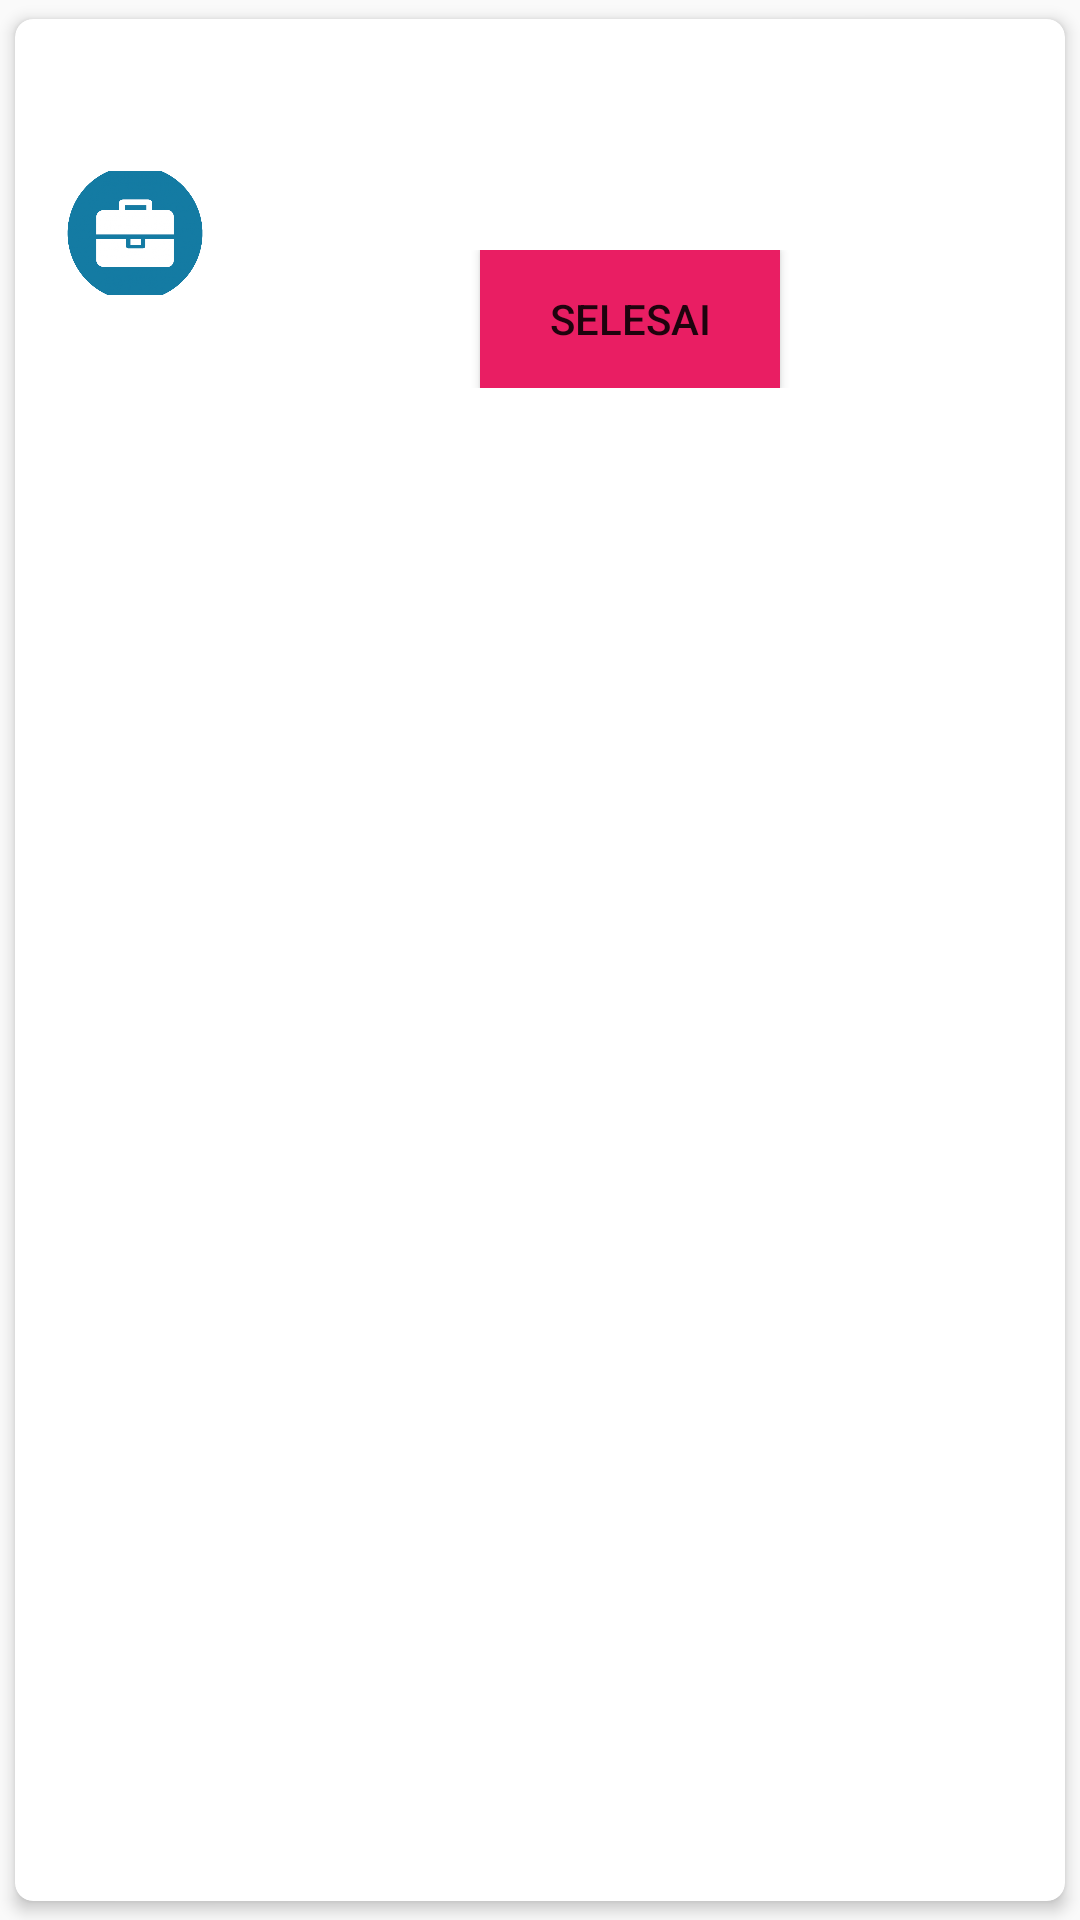

Icons on this 1080px×1920px Android screen, each with the point to tap as [x,y]:
pekerjaan: [135,233]
